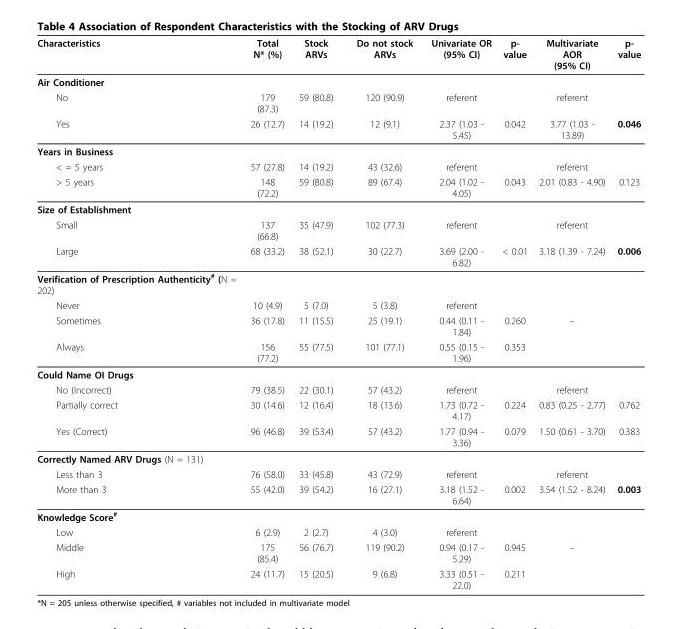table: (36, 36, 640, 590)
table column: (36, 36, 242, 590), (532, 36, 610, 590), (344, 36, 421, 590), (421, 36, 496, 590), (291, 36, 344, 590), (242, 36, 291, 590), (496, 36, 532, 590), (610, 36, 640, 590)
table column header: (36, 36, 640, 73)
table projected row header: (36, 269, 640, 297), (36, 507, 640, 524), (36, 73, 640, 89), (36, 142, 640, 158), (36, 200, 640, 216), (36, 365, 640, 381), (36, 450, 640, 466)
table row: (36, 36, 640, 73), (36, 269, 640, 297), (36, 115, 640, 142), (36, 173, 640, 200), (36, 216, 640, 243), (36, 338, 640, 365), (36, 396, 640, 423), (36, 423, 640, 450), (36, 89, 640, 115), (36, 243, 640, 269), (36, 312, 640, 338), (36, 481, 640, 507), (36, 539, 640, 565), (36, 565, 640, 590), (36, 507, 640, 524), (36, 73, 640, 89), (36, 142, 640, 158), (36, 200, 640, 216), (36, 365, 640, 381), (36, 450, 640, 466), (36, 158, 640, 173), (36, 297, 640, 312), (36, 381, 640, 396), (36, 466, 640, 481), (36, 524, 640, 539)
